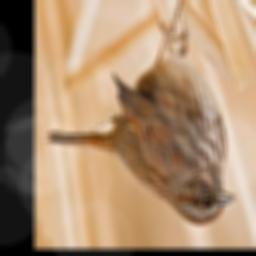Sparrow: (45, 0, 236, 227)
